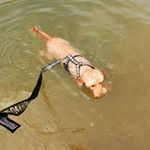puppy: (28, 23, 115, 101)
